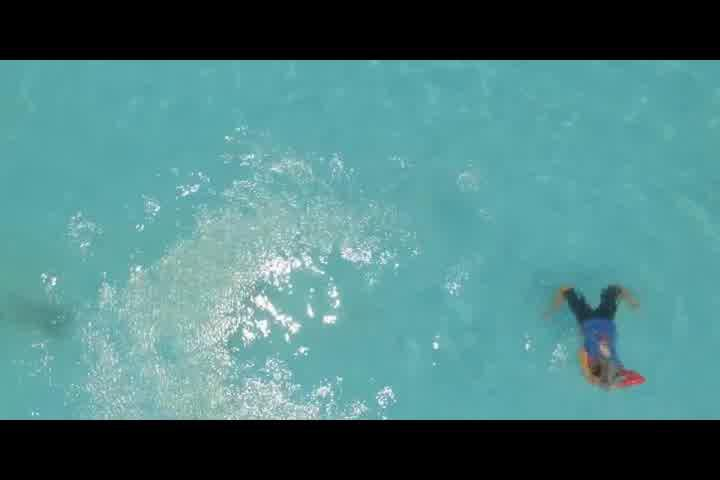swimmer: (549, 277, 647, 390)
